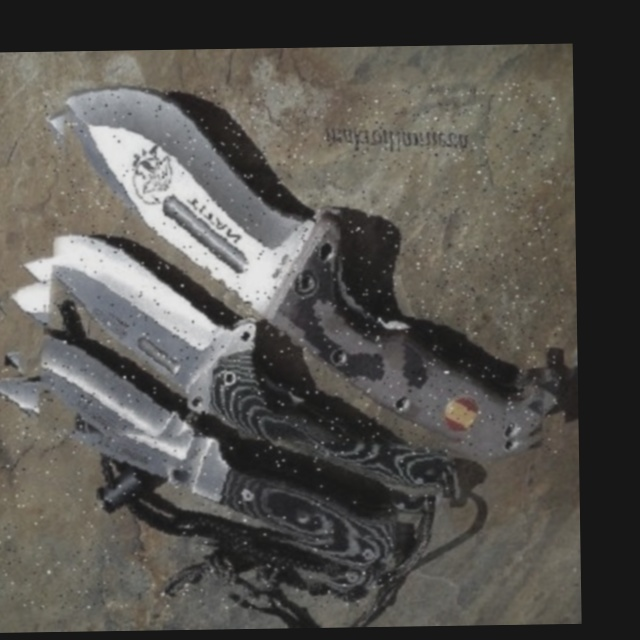Sharp-Object: (42, 81, 565, 462), (17, 234, 450, 550), (0, 332, 397, 612)
